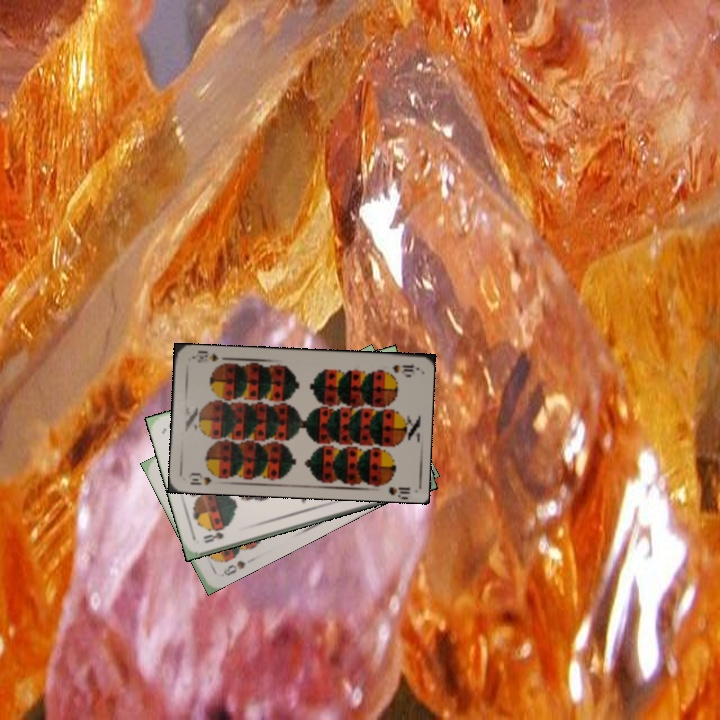S10: (185, 469, 224, 488), (388, 360, 417, 377)
S8: (217, 556, 248, 579)
SO: (199, 524, 228, 546)
